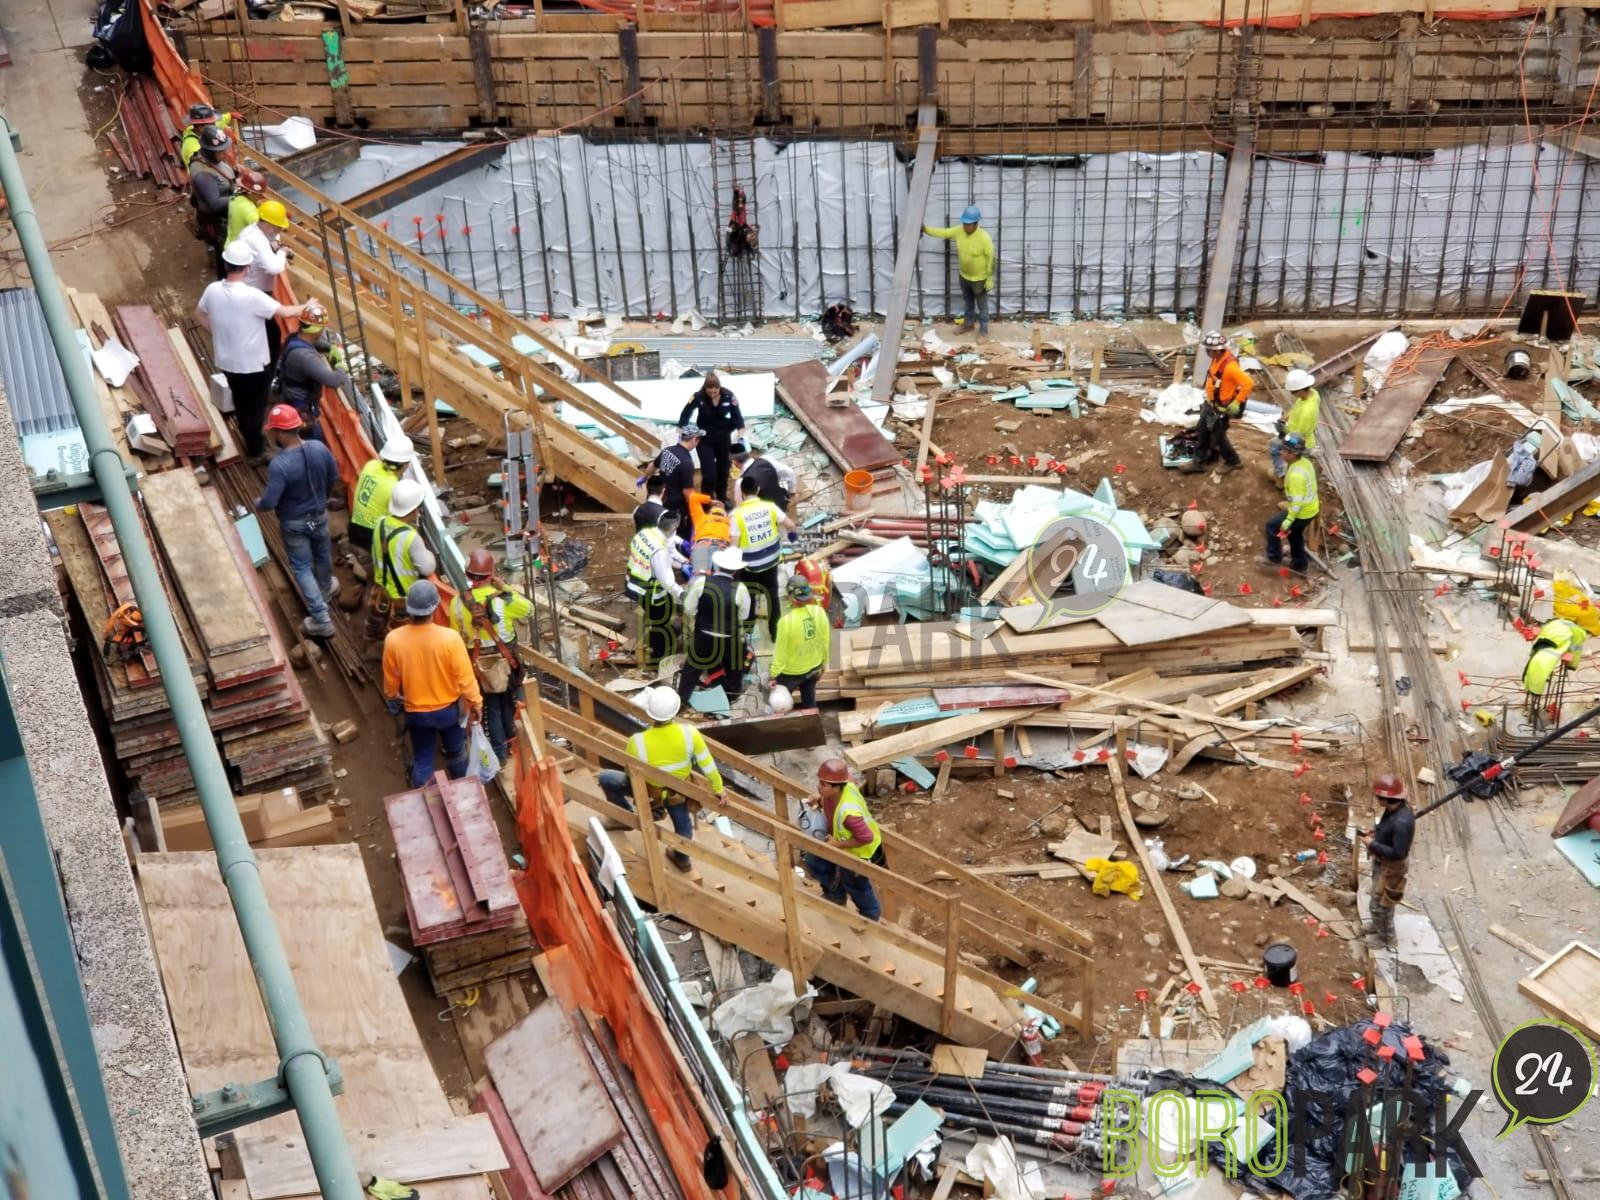helmet: (389, 482, 427, 521), (404, 579, 440, 620), (645, 684, 682, 724), (265, 405, 304, 436), (380, 434, 416, 468), (1371, 771, 1410, 800), (464, 550, 498, 582), (258, 202, 292, 231), (299, 303, 333, 330), (816, 759, 850, 787), (200, 126, 233, 153), (223, 241, 254, 267), (1285, 368, 1317, 395), (785, 575, 814, 603), (237, 171, 270, 195), (1201, 330, 1233, 353), (1283, 431, 1309, 454), (961, 205, 984, 226)
